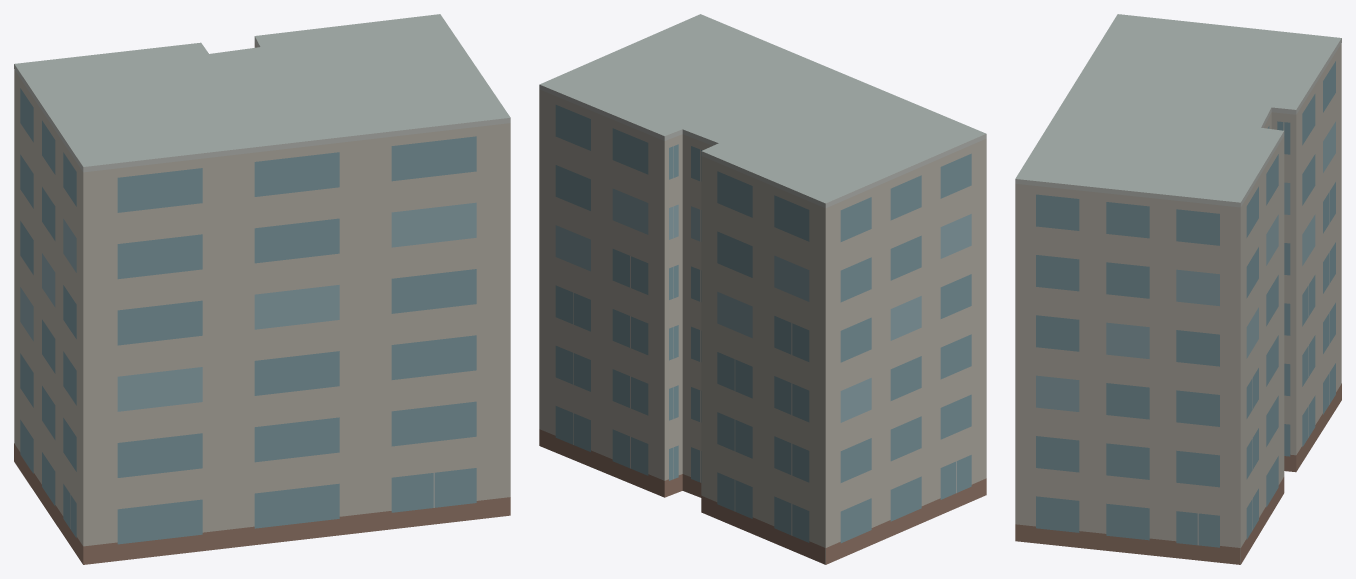
File: survey-upis-32889755.glb
3 renders of one model, left to right at view 1: azimuth 30°, elevation 25°; view 2: azimuth 150°, elevation 25°; view 3: azimuth 270°, elevation 25°, orthographic. The views are drawn at different scales.
Visible parts, largest first — view 1: survey-upis-32889755.tmp; view 2: survey-upis-32889755.tmp; view 3: survey-upis-32889755.tmp.
Part boxes in pixels (left/top/right/bottom): survey-upis-32889755.tmp: left=14, top=14, right=510, bottom=564; survey-upis-32889755.tmp: left=539, top=14, right=986, bottom=564; survey-upis-32889755.tmp: left=1015, top=14, right=1341, bottom=564.
Bounding box in the file's own units: 20.45 × 18.3 × 14.96.
